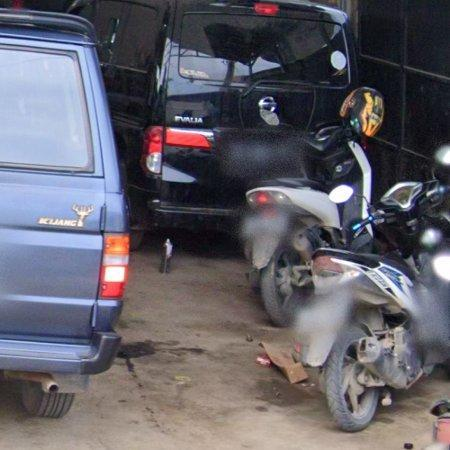motorcycles: (296, 145, 450, 432), (242, 123, 372, 327)
